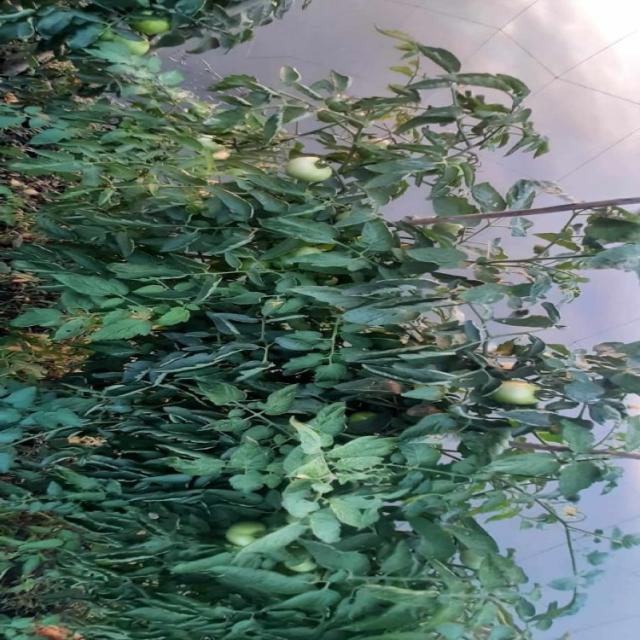tomato: (493, 372, 569, 439), (223, 521, 277, 556), (295, 147, 332, 197), (125, 10, 172, 38)
